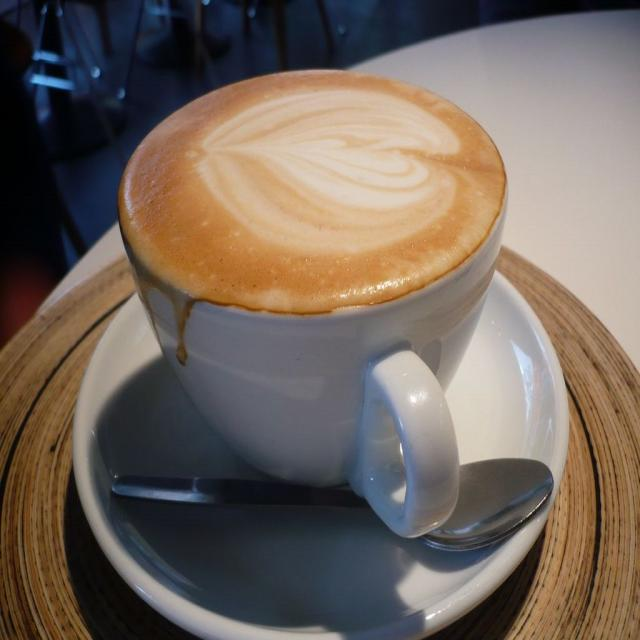Coffee: (116, 72, 502, 363)
